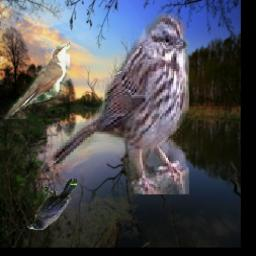Crow: (28, 178, 78, 230)
Cuckoo: (3, 44, 70, 120)
Sparrow: (50, 15, 190, 195)
